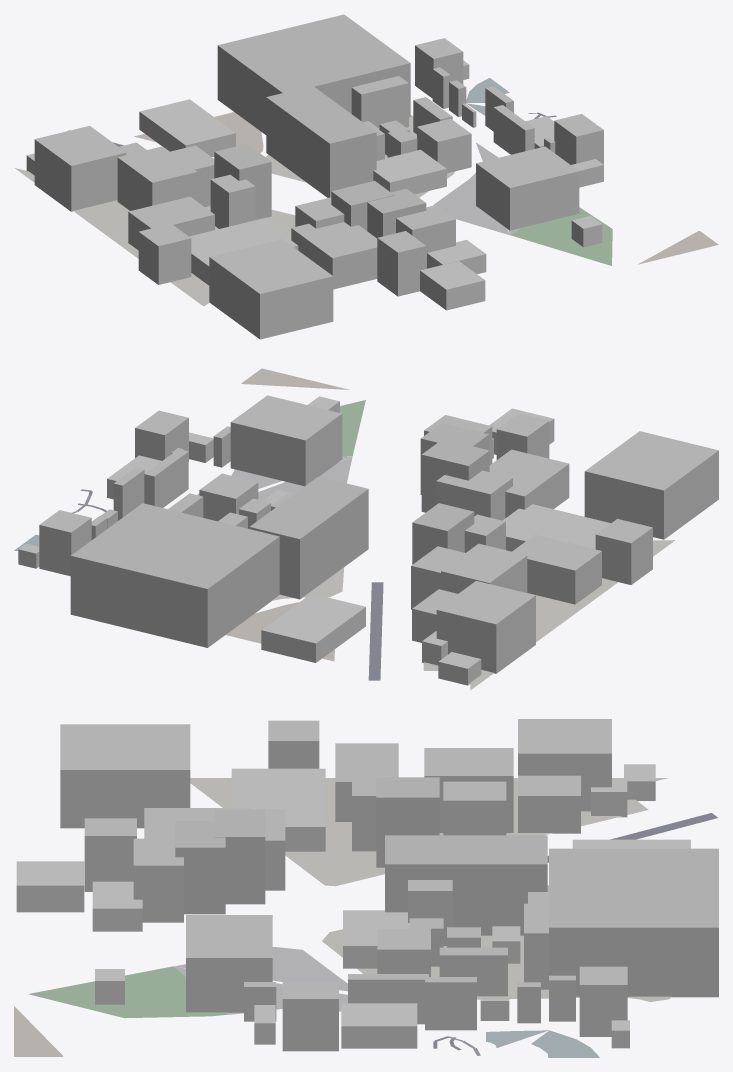
The model's file is 126_112_mid.glb.
3 renders of one model, top to bottom at view 1: azimuth 30°, elevation 25°; view 2: azimuth 150°, elevation 25°; view 3: azimuth 270°, elevation 25°, orthographic. The views are drawn at different scales.
Size of the model in its own units: 516 by 60.01 by 532.
